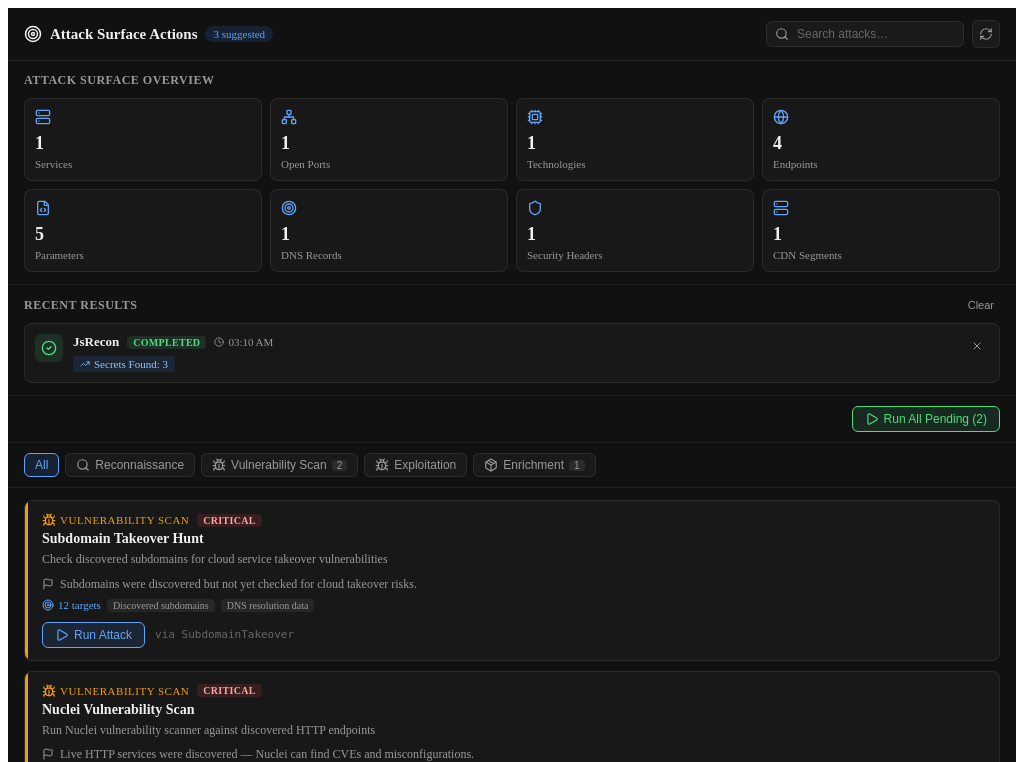
it: AttackPanel › dismisses a recent result
Expected: the text "Attack Surface Overview" is shown, x1=24 y1=73 x2=214 y2=87
Expected: the text "Recent Results" is shown, x1=24 y1=298 x2=137 y2=312
Click the button named "dismiss jsrecon result".
click(977, 346)  # box x1=965 y1=334 x2=989 y2=358
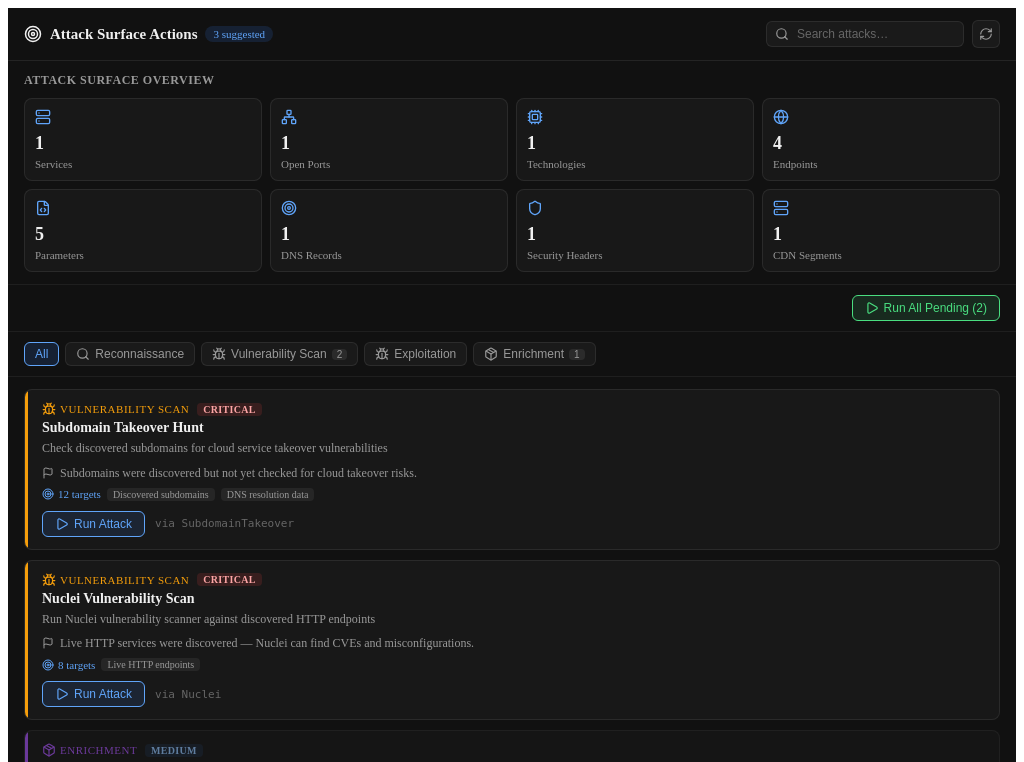
Now the text "JsRecon" is gone
